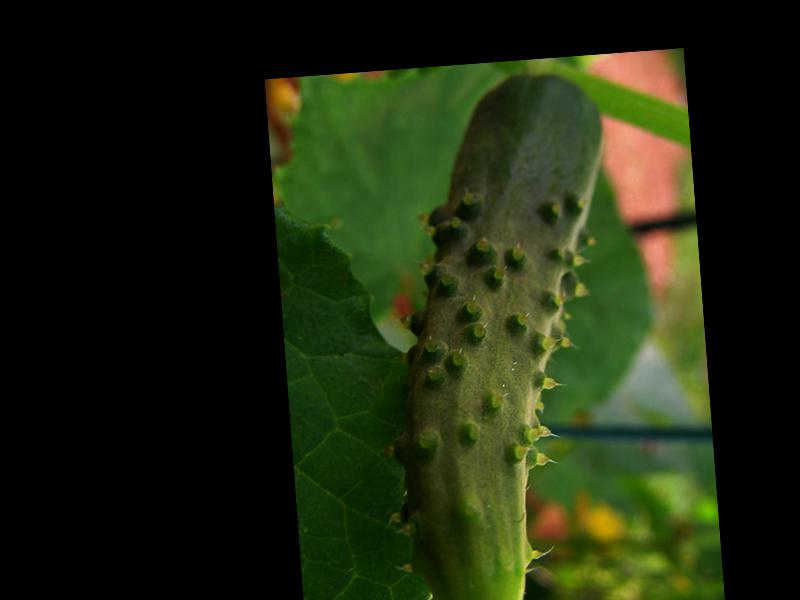Cucumber: (366, 66, 637, 600)
